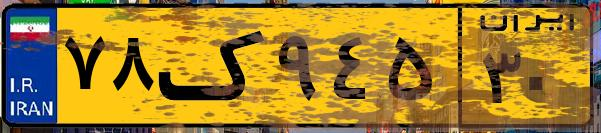0: (525, 38, 570, 115)
3: (475, 38, 525, 113)
4: (330, 28, 385, 110)
5: (385, 28, 445, 110)
7: (57, 26, 110, 100)
8: (110, 28, 158, 98)
9: (270, 28, 330, 110)
ک: (158, 12, 270, 120)
